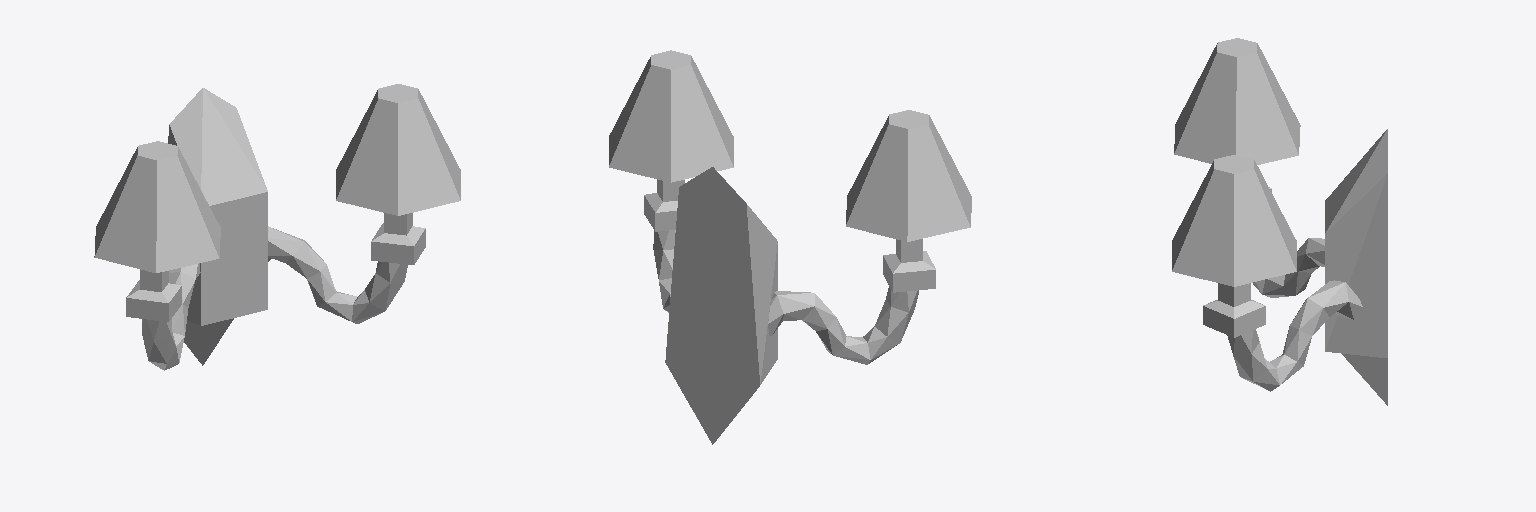
Rendered from 05 lampara pared.obj.
3 views of the same model, side by side, from view 1: azimuth 30°, elevation 25°; view 2: azimuth 150°, elevation 25°; view 3: azimuth 270°, elevation 25° (orthographic).
Visible parts, largest first — view 1: group1 pCylinder2, group1 pCube1, sweep2 group1, group1 pCylinder1; view 2: group1 pCylinder2, group1 pCube1, sweep2 group1, group1 pCylinder1; view 3: group1 pCylinder2, group1 pCube1, sweep2 group1, group1 pCylinder1.
Part boxes in pixels (left/top/right/bottom): group1 pCylinder2: left=94, top=84, right=460, bottom=272; group1 pCube1: left=168, top=88, right=267, bottom=365; sweep2 group1: left=142, top=226, right=407, bottom=370; group1 pCylinder1: left=126, top=213, right=425, bottom=321; group1 pCylinder2: left=609, top=50, right=971, bottom=241; group1 pCube1: left=665, top=167, right=777, bottom=444; sweep2 group1: left=653, top=230, right=918, bottom=364; group1 pCylinder1: left=644, top=179, right=935, bottom=292; group1 pCylinder2: left=1172, top=38, right=1300, bottom=286; group1 pCube1: left=1325, top=129, right=1387, bottom=405; sweep2 group1: left=1227, top=238, right=1362, bottom=391; group1 pCylinder1: left=1203, top=187, right=1271, bottom=337.
Bounding box in the file's own units: 80.49 × 63.35 × 41.4.